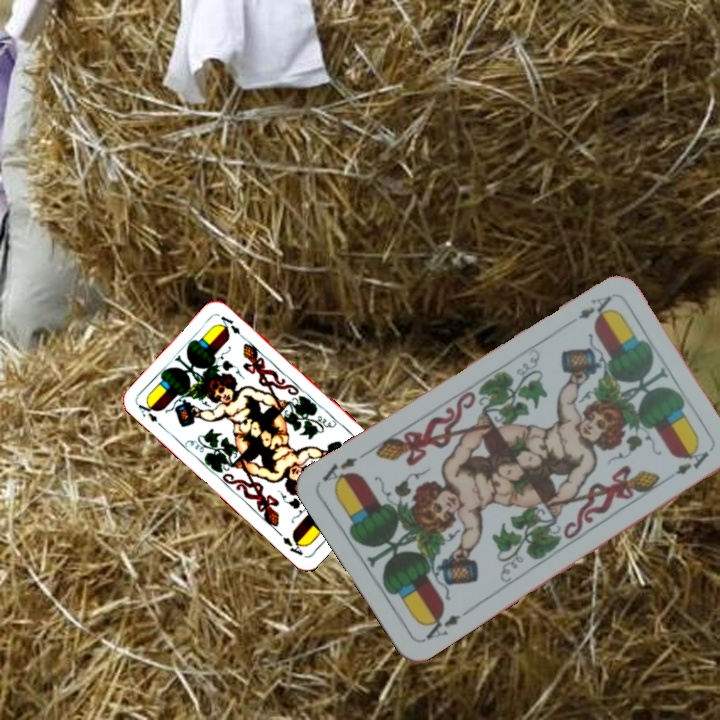EA: (419, 606, 472, 644), (574, 292, 615, 322), (134, 397, 167, 431)
